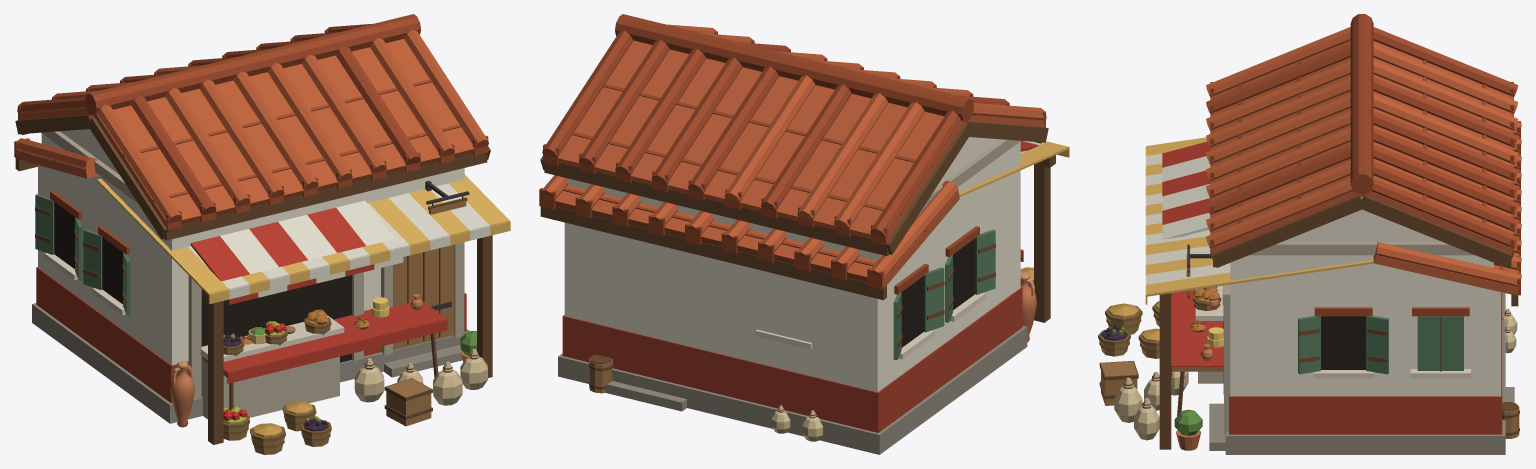
Rendered from Laden.fbx.
3 views of the same model, side by side, from view 1: azimuth 30°, elevation 25°; view 2: azimuth 150°, elevation 25°; view 3: azimuth 270°, elevation 25° (orthographic). The views are drawn at different scales.
Visible parts, largest first — view 1: Laden_0, Laden_1; view 2: Laden_0, Laden_1; view 3: Laden_0, Laden_1.
Boxes of the visible parts, left/top/right/bottom form: Laden_0: left=15, top=14, right=490, bottom=440; Laden_1: left=14, top=138, right=510, bottom=454; Laden_0: left=540, top=14, right=1048, bottom=451; Laden_1: left=539, top=141, right=1069, bottom=454; Laden_0: left=1138, top=14, right=1519, bottom=454; Laden_1: left=1098, top=121, right=1521, bottom=454.
Bounding box in the file's own units: 1.65 × 1.38 × 1.83.
